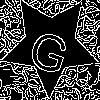G: (25, 20, 75, 77)
